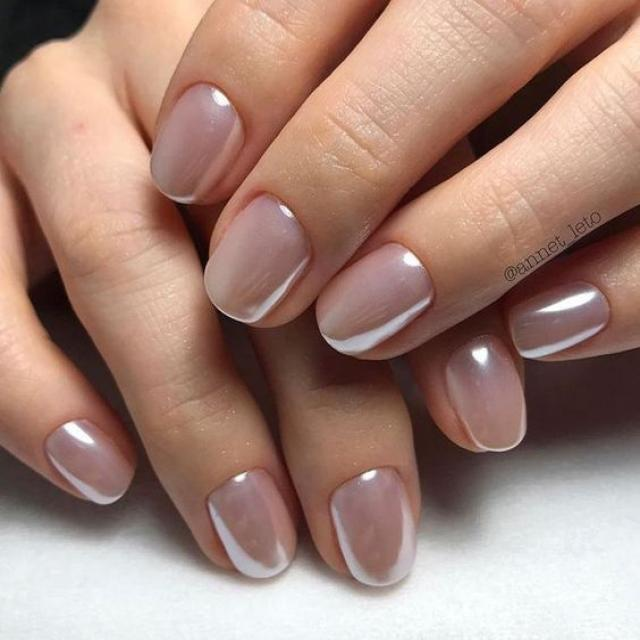Fingernail: (206, 194, 313, 324), (316, 242, 434, 357), (152, 84, 242, 202), (331, 468, 415, 586), (208, 470, 295, 578), (446, 337, 524, 451), (512, 283, 609, 358), (46, 420, 131, 504)
